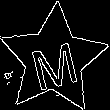M_N: (26, 29, 82, 90)
